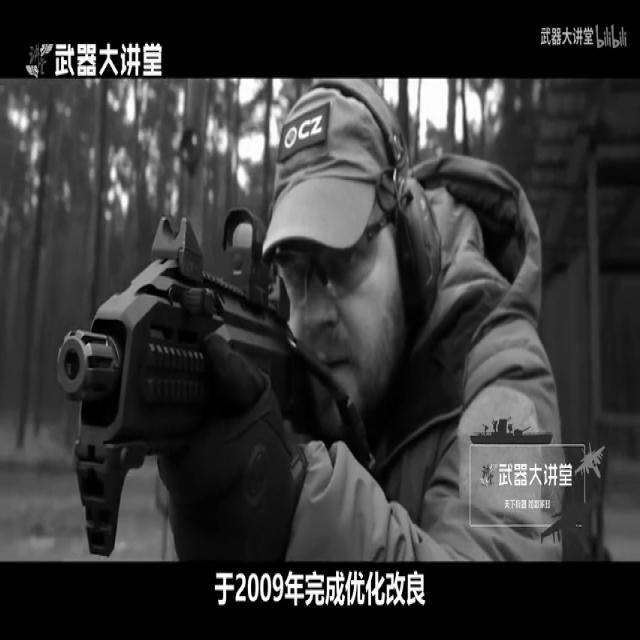Sub-machine-gun: (23, 200, 301, 571)
